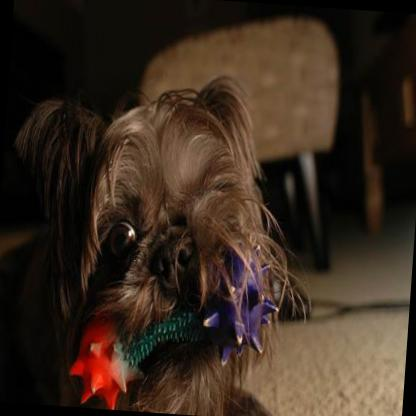affenpinscher: (0, 54, 328, 416)
